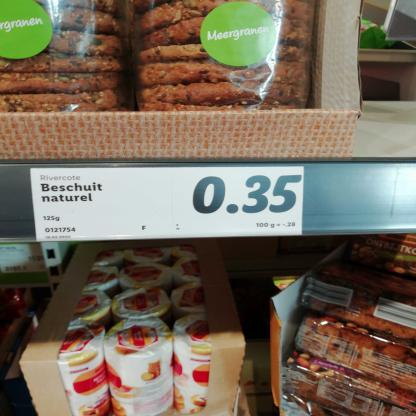prtg: (31, 167, 305, 243)
